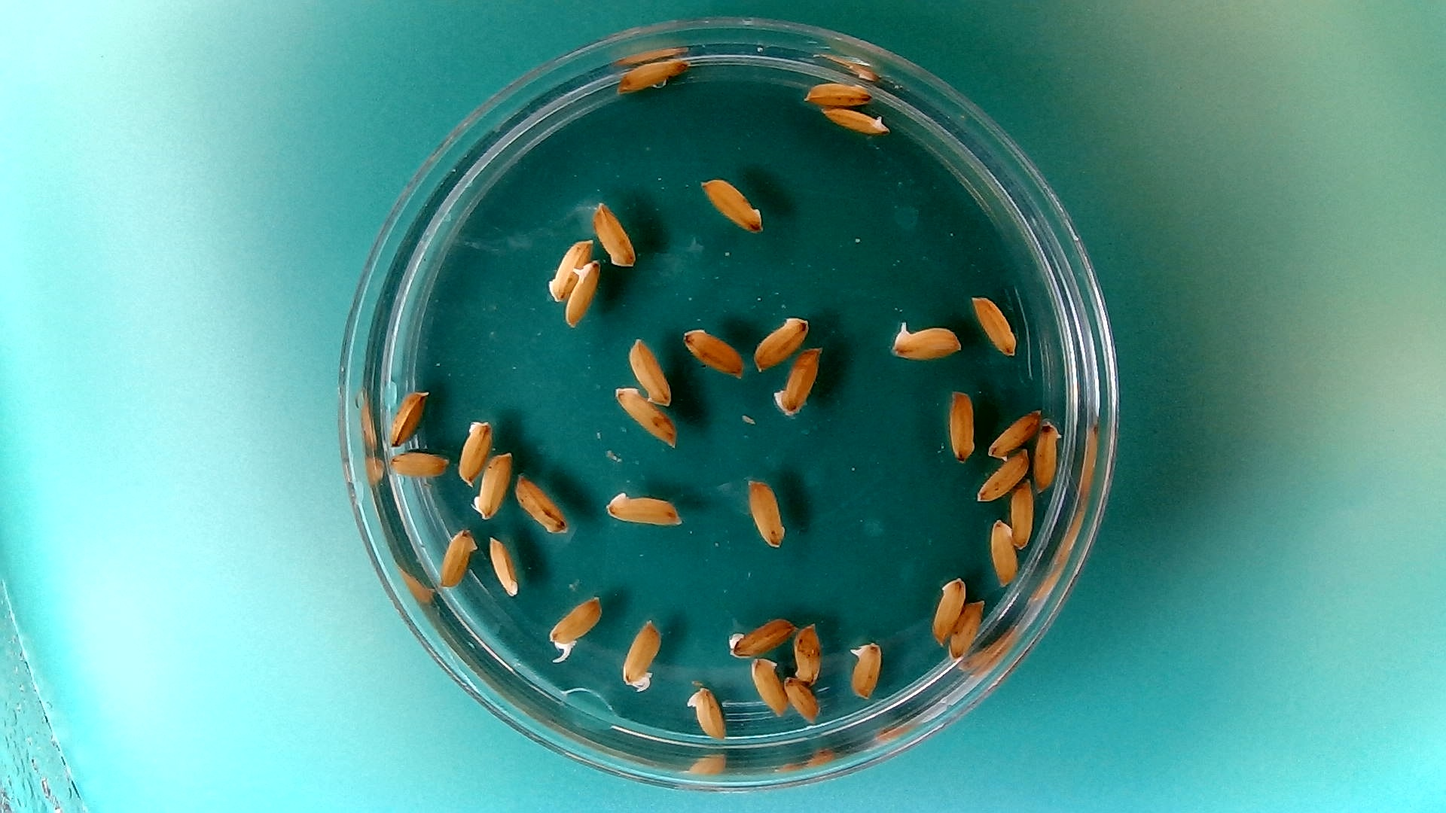no: (611, 381, 681, 449), (695, 171, 766, 235), (769, 343, 825, 417), (749, 309, 811, 373), (512, 470, 570, 535), (602, 486, 685, 528), (626, 333, 673, 407), (744, 473, 788, 551), (590, 199, 639, 268), (613, 54, 691, 97), (969, 291, 1019, 358), (470, 447, 515, 521), (544, 234, 592, 303), (725, 613, 798, 658), (974, 446, 1030, 503), (984, 405, 1043, 459), (436, 523, 479, 591), (928, 573, 968, 646), (746, 653, 789, 719), (456, 416, 495, 487), (685, 682, 729, 744), (386, 385, 429, 448), (948, 595, 987, 659), (1031, 417, 1063, 493), (946, 385, 977, 463), (486, 531, 520, 598), (987, 516, 1018, 589), (385, 446, 451, 480), (792, 619, 824, 687), (802, 78, 875, 106), (1008, 477, 1035, 550), (782, 674, 821, 723)
yes: (545, 590, 606, 652), (885, 316, 966, 362), (618, 616, 663, 693), (562, 255, 603, 329), (845, 637, 884, 701), (818, 103, 892, 136)
